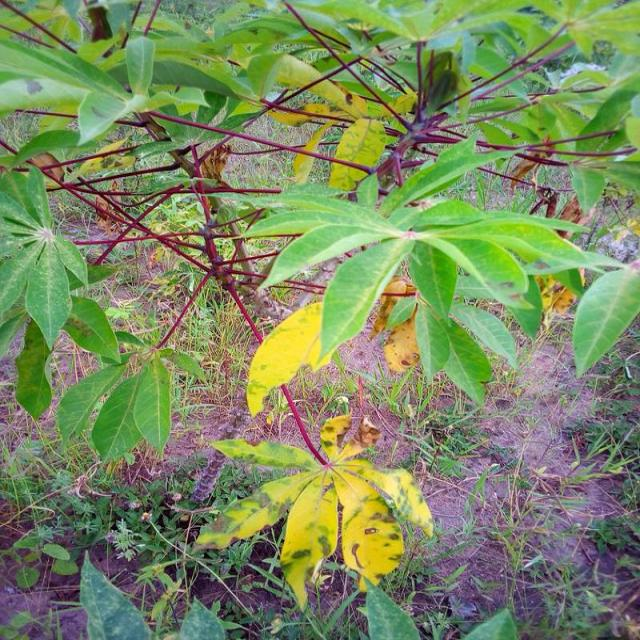cassava leaf: (194, 410, 436, 612), (246, 299, 336, 417), (572, 264, 640, 378)
